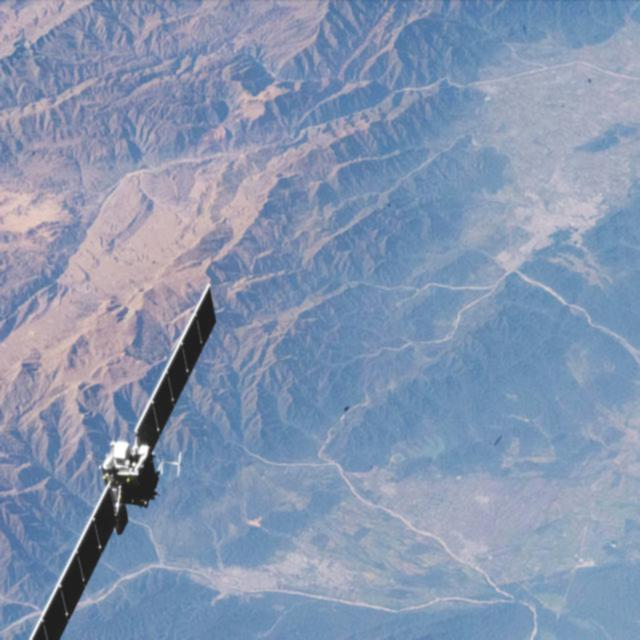satellite: (20, 279, 220, 640)
